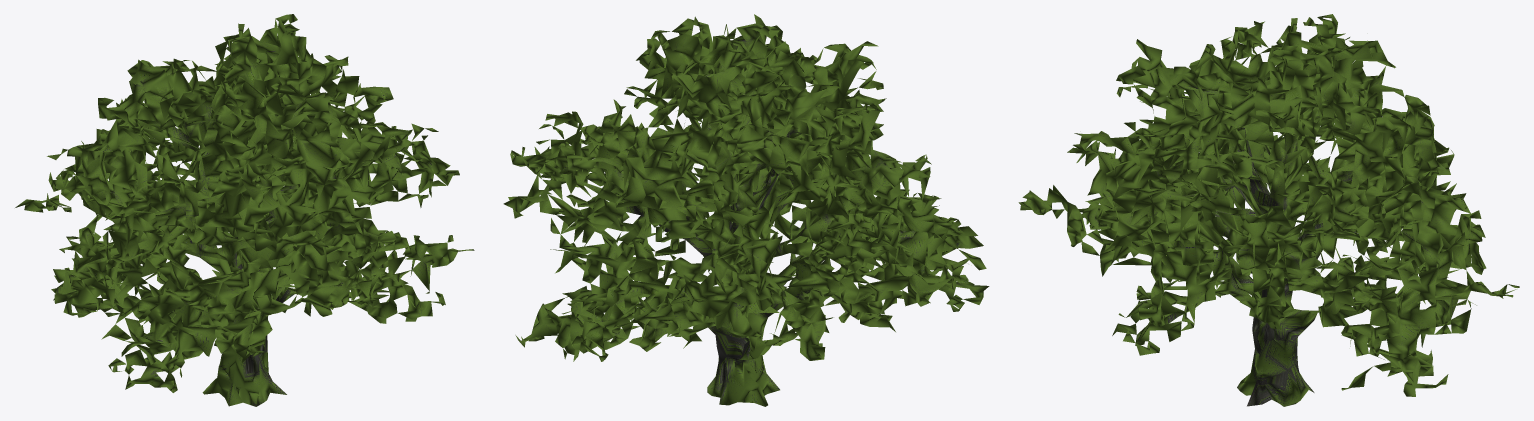
File: street_tree_b.glb
3 views of the same model, side by side, from view 1: azimuth 30°, elevation 25°; view 2: azimuth 150°, elevation 25°; view 3: azimuth 270°, elevation 25° (orthographic). The views are drawn at different scales.
Size of the model in its own units: 11.85 by 10 by 12.05.
Materials: 1 (1 with a texture image).
